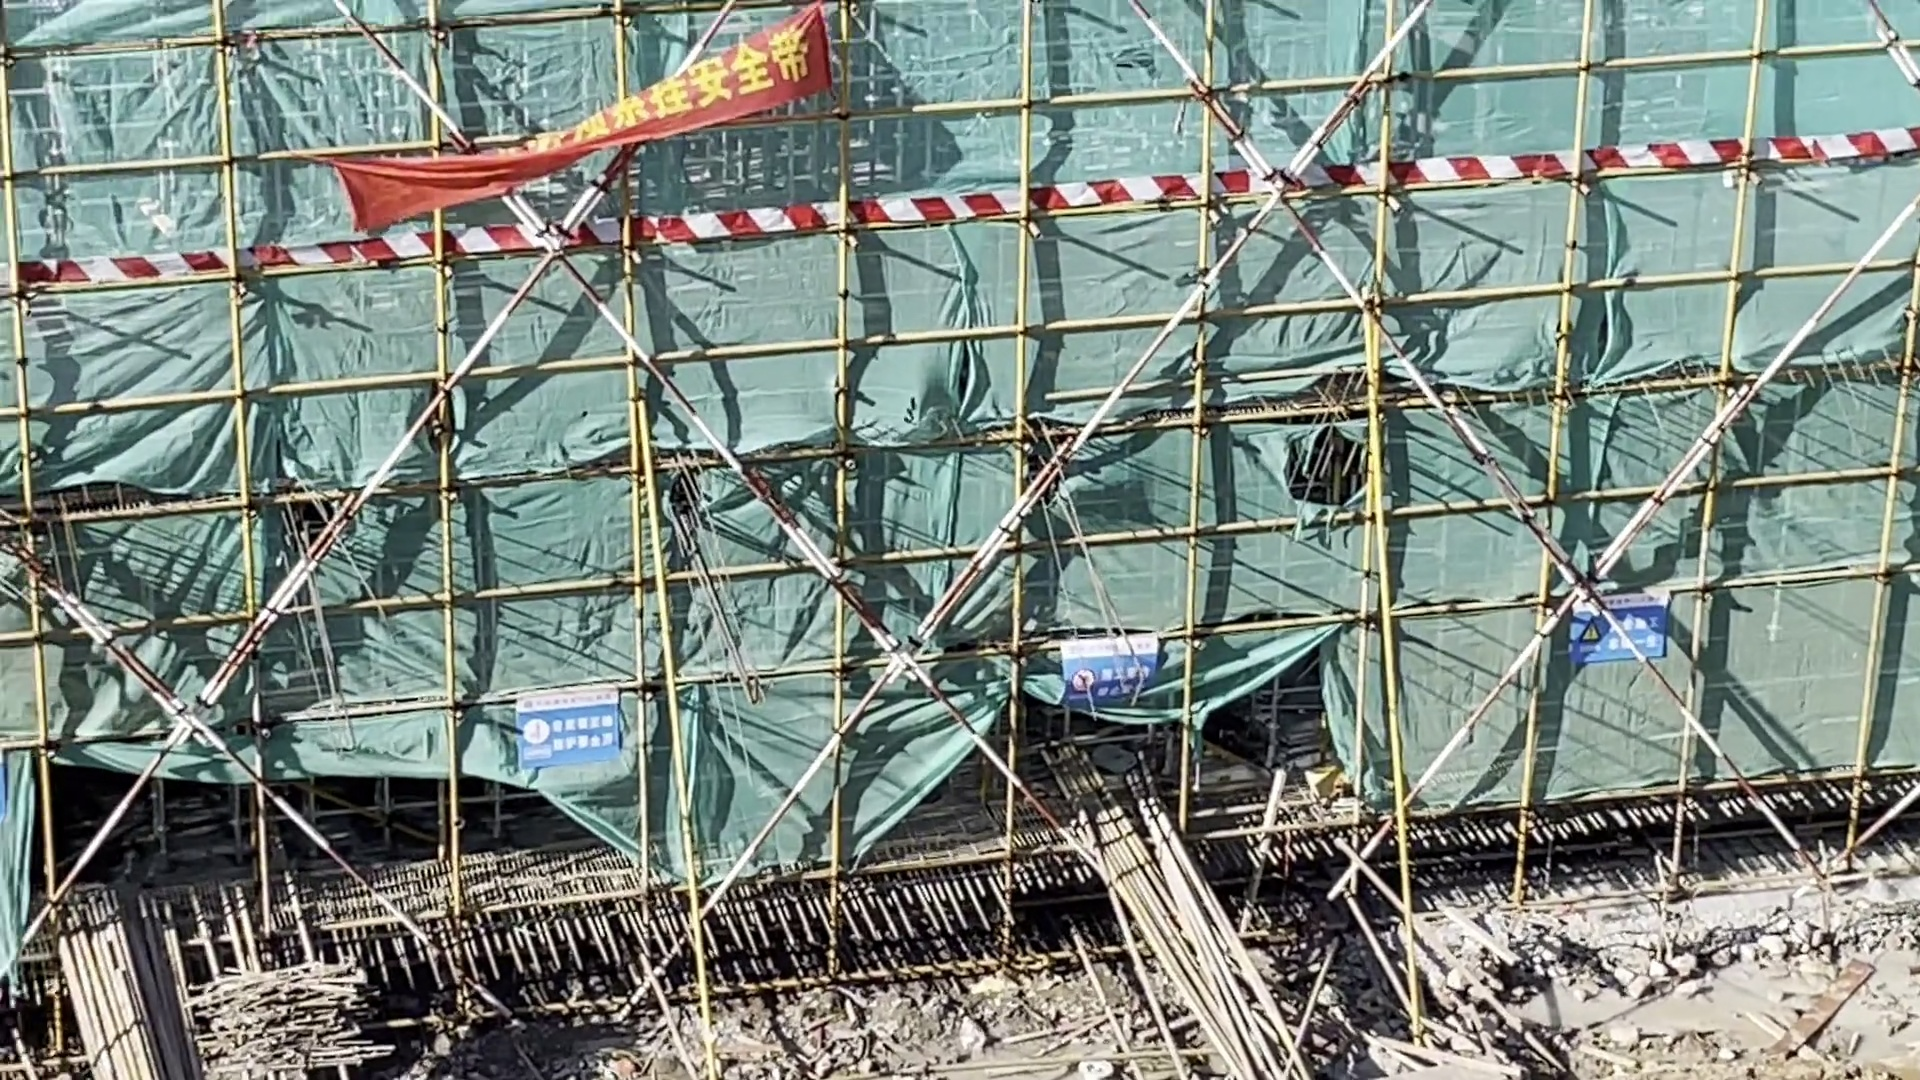slogan: (375, 28, 828, 229), (520, 699, 620, 771), (1571, 597, 1669, 659), (1065, 647, 1155, 713)
